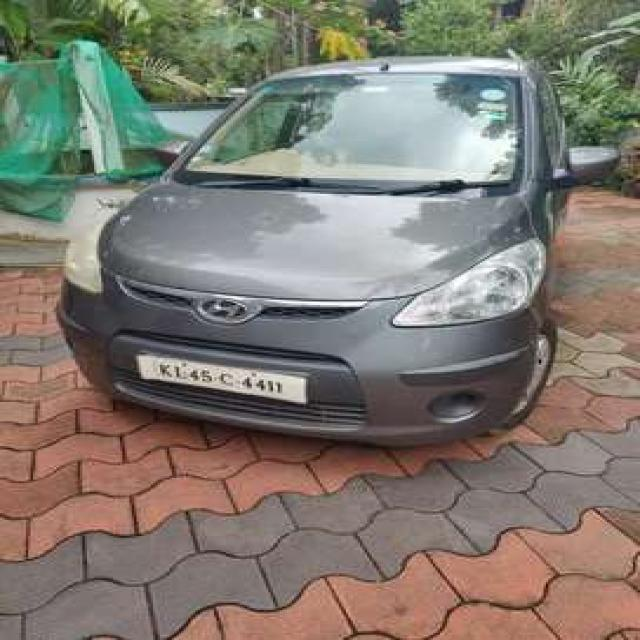licenseplate: (130, 349, 310, 407)
